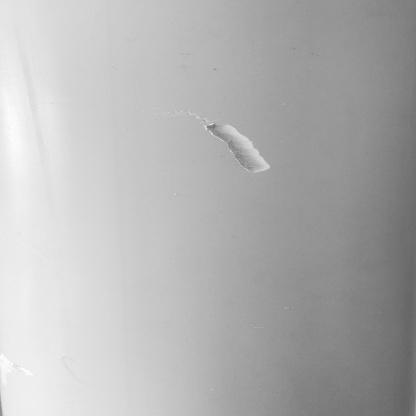sunshang: (186, 108, 280, 183)
